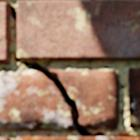brick: (17, 0, 139, 60), (129, 68, 139, 126), (0, 4, 9, 62), (17, 137, 139, 139), (0, 137, 9, 139)
broken_brick: (0, 71, 74, 130), (52, 69, 119, 129)
crack: (0, 0, 139, 137)
